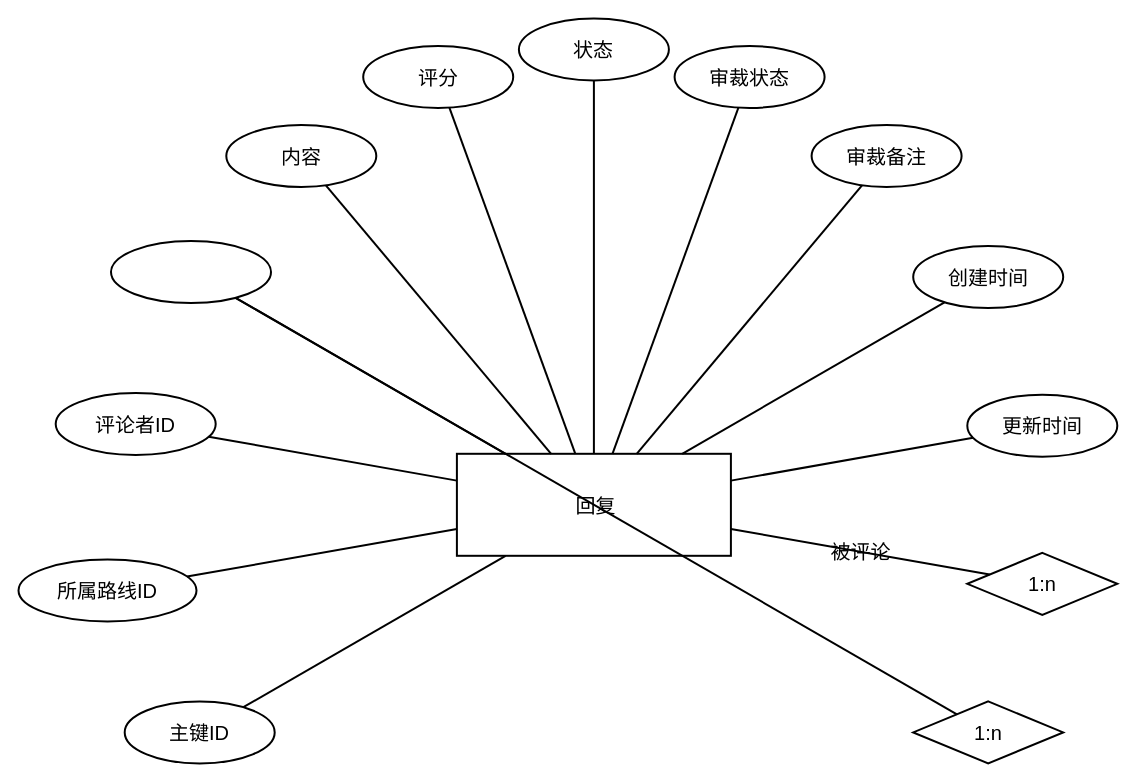
The diagram is 1135 pixels wide and 781 high, and some of its shapes have lost their labels. The box of each missing label's shape, as (x1, y1, x2, y2) in pixels:
父评论ID: (110, 240, 272, 304)
评论表 reviews: (455, 452, 731, 556)
